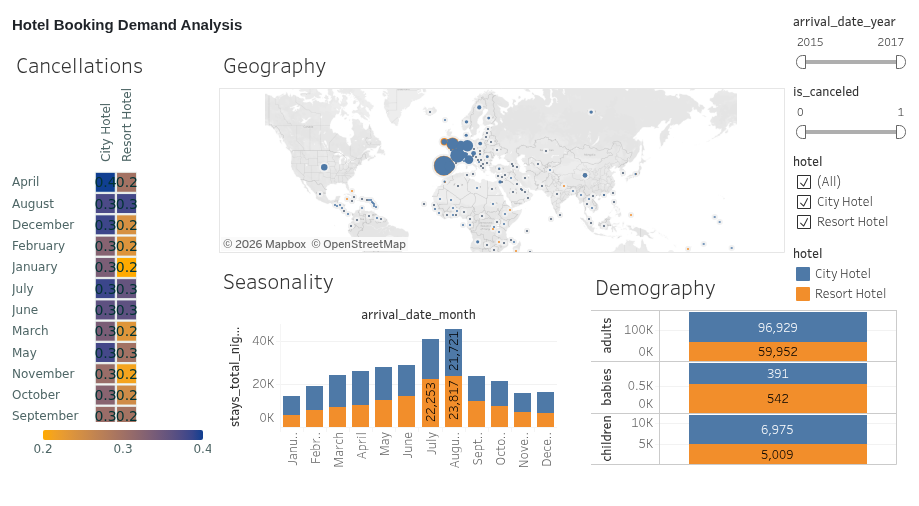

This screenshot's page, from the dashboard's own definition file:
{"tool":"tableau","page":{"name":"Hotel Booking Demand Analysis","canvas":[1000,1000],"units":"permille","ordinal":0},"visuals":[{"type":"text","box":[8.7,14.5,848.9,70]},{"type":"filter","title":"Cancellations","param":"[federated.119tmr41stux8y1bomivf1cypk46].[none:arrival_date_year:qk]","box":[857.6,14.5,133.7,124.8]},{"type":"worksheet","title":"Cancellations","mark":"VizExtension","box":[8.7,84.4,225,901.1]},{"type":"worksheet","title":"Geography","mark":"Automatic","box":[233.7,84.4,623.9,450.5]},{"type":"filter","title":"Cancellations","param":"[federated.119tmr41stux8y1bomivf1cypk46].[none:is_canceled:qk]","box":[857.6,139.2,133.7,124.8]},{"type":"filter","title":"Cancellations","param":"[federated.119tmr41stux8y1bomivf1cypk46].[none:hotel:nk]","box":[857.6,264,133.7,160.9]},{"type":"legend","title":"Geography","param":"[federated.119tmr41stux8y1bomivf1cypk46].[none:hotel:nk]","box":[857.6,425,133.7,119.4]},{"type":"worksheet","title":"Seasonality","mark":"Automatic","rows":["stays_total_nights"],"cols":["arrival_date_month"],"box":[233.7,534.9,376.3,450.6]},{"type":"blank","box":[610,534.9,247.6,450.6]},{"type":"worksheet","title":"Demography","mark":"Bar","rows":["adults","babies","children"],"box":[642.4,557,332.6,412.3]}]}

Visuals, with their boxes on the dashboard's canvas, which has no fixed pixel size, in thousandths of its width and height (x1, y1, x2, y2). These are canvas units, not pixel positions in the 919x506 screenshot, which may show the page scaled, cropped or inside an application window:
text: [x1=9, y1=14, x2=858, y2=84]
"Cancellations" filter: [x1=858, y1=14, x2=991, y2=139]
"Cancellations" worksheet (VizExtension marks): [x1=9, y1=84, x2=234, y2=986]
"Geography" worksheet: [x1=234, y1=84, x2=858, y2=535]
"Cancellations" filter: [x1=858, y1=139, x2=991, y2=264]
"Cancellations" filter: [x1=858, y1=264, x2=991, y2=425]
"Geography" legend: [x1=858, y1=425, x2=991, y2=544]
"Seasonality" worksheet: [x1=234, y1=535, x2=610, y2=986]
blank: [x1=610, y1=535, x2=858, y2=986]
"Demography" worksheet (Bar marks): [x1=642, y1=557, x2=975, y2=969]
